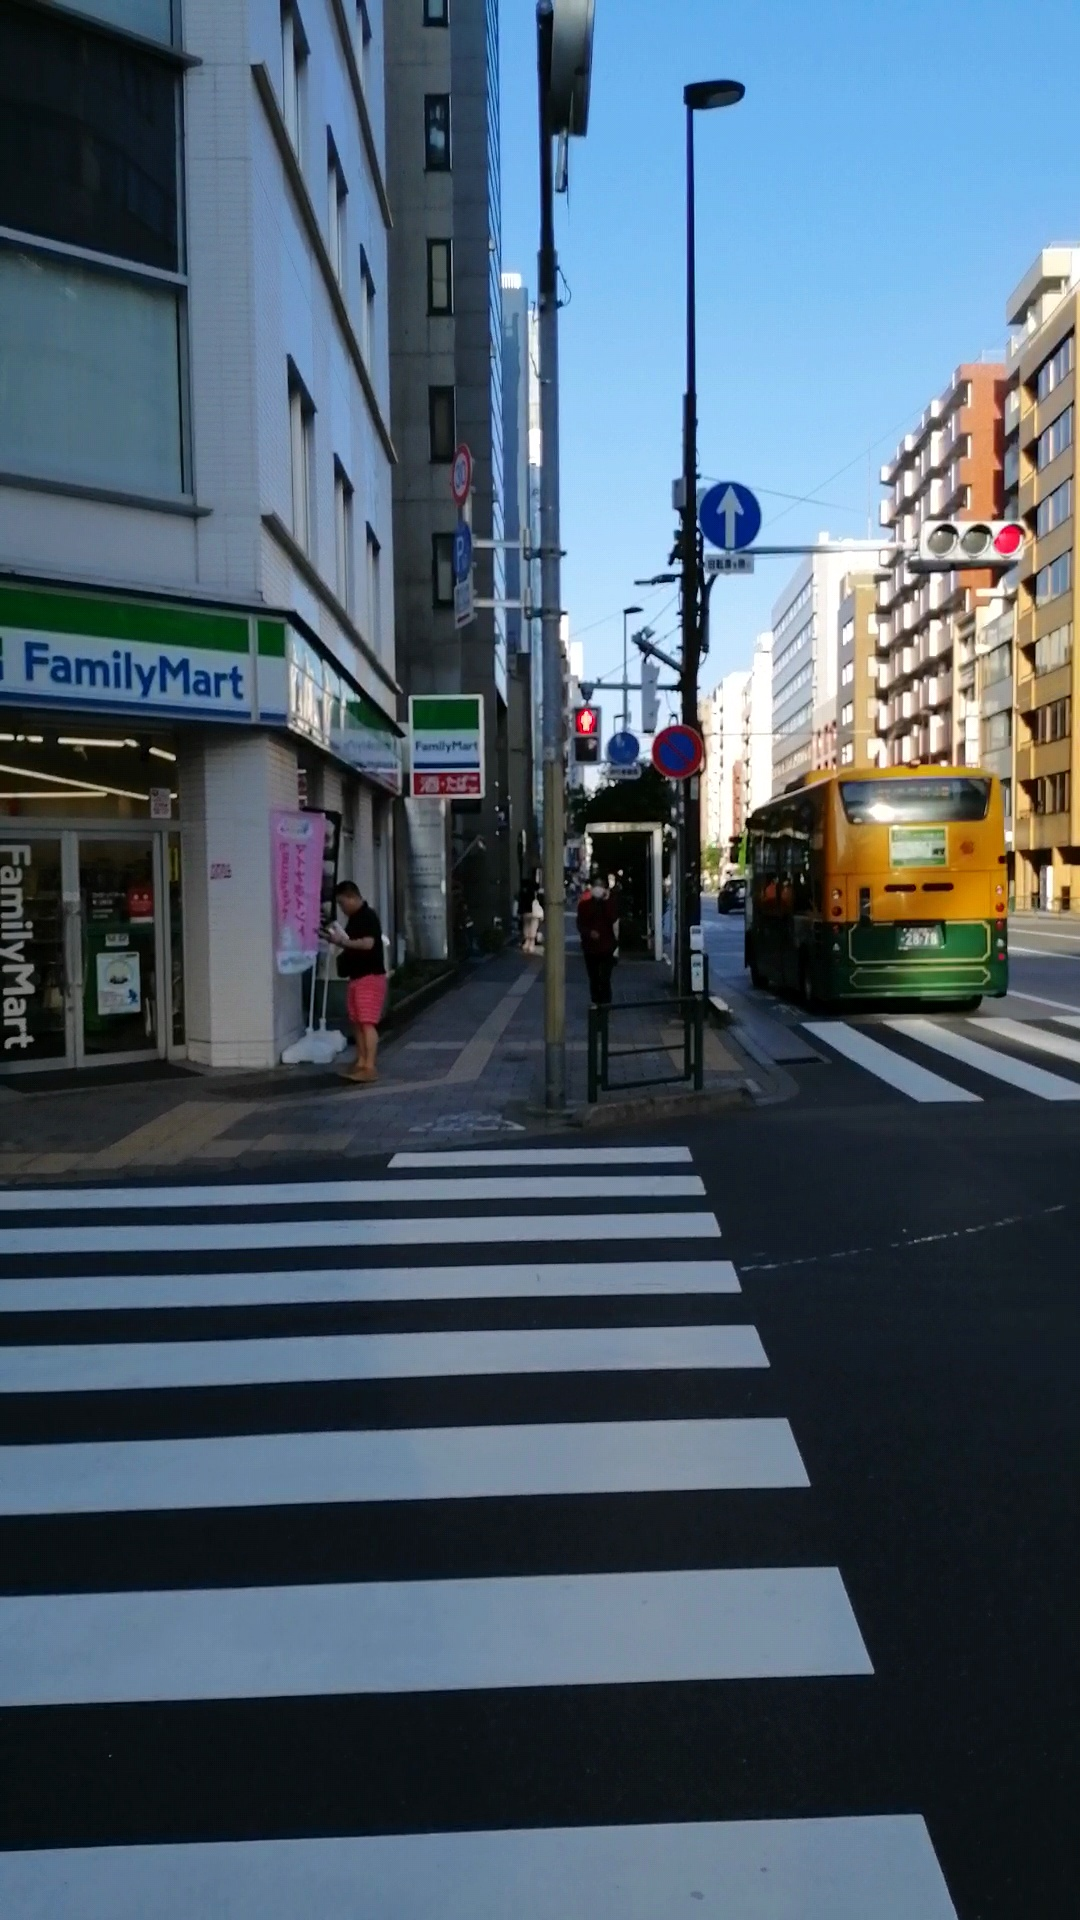red: (568, 705, 607, 774)
